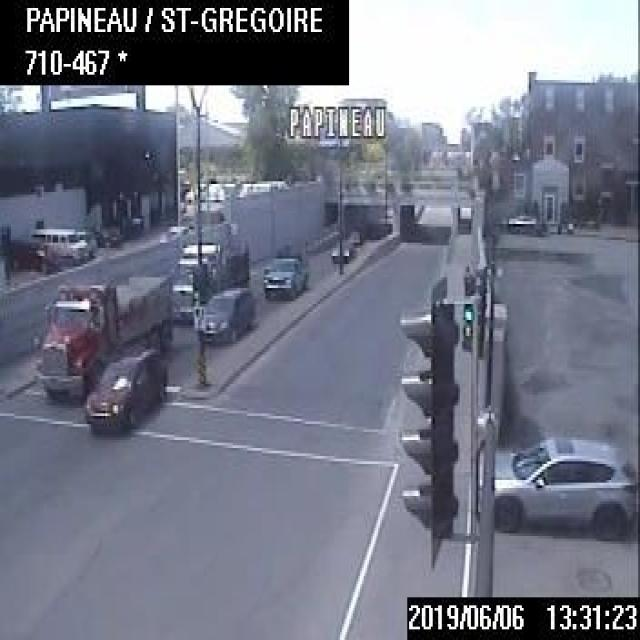vehicle: (35, 271, 173, 398), (476, 435, 638, 536), (82, 345, 168, 432), (170, 230, 249, 320), (192, 287, 251, 341), (28, 225, 88, 261), (262, 253, 304, 296), (329, 238, 353, 262), (346, 228, 362, 243)
